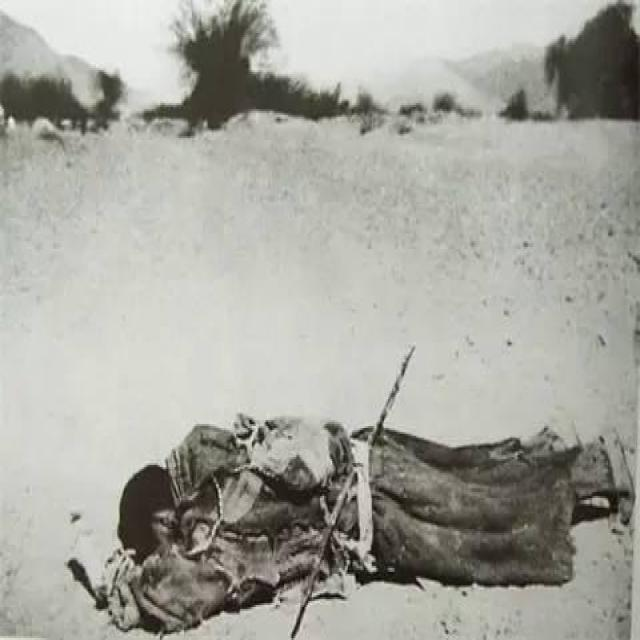fall: (112, 393, 617, 593)
